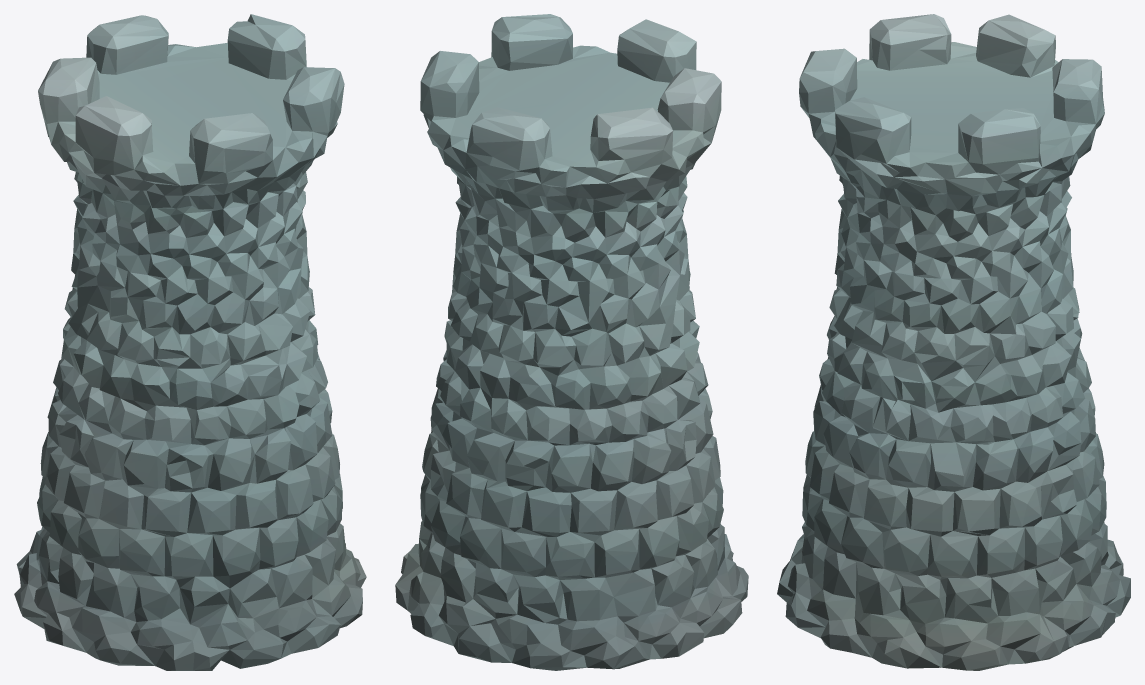
The model's file is Tower_v2.FBX.
3 views of the same model, side by side, from view 1: azimuth 30°, elevation 25°; view 2: azimuth 150°, elevation 25°; view 3: azimuth 270°, elevation 25° (orthographic).
Parts seen in each view (by area): view 1: Group3975; view 2: Group3975; view 3: Group3975.
Boxes of the visible parts, x1,y1,x2,y2 form: Group3975: [14, 14, 366, 670]; Group3975: [395, 14, 748, 670]; Group3975: [777, 14, 1130, 670].
Size of the model in its own units: 301 by 510 by 305.
